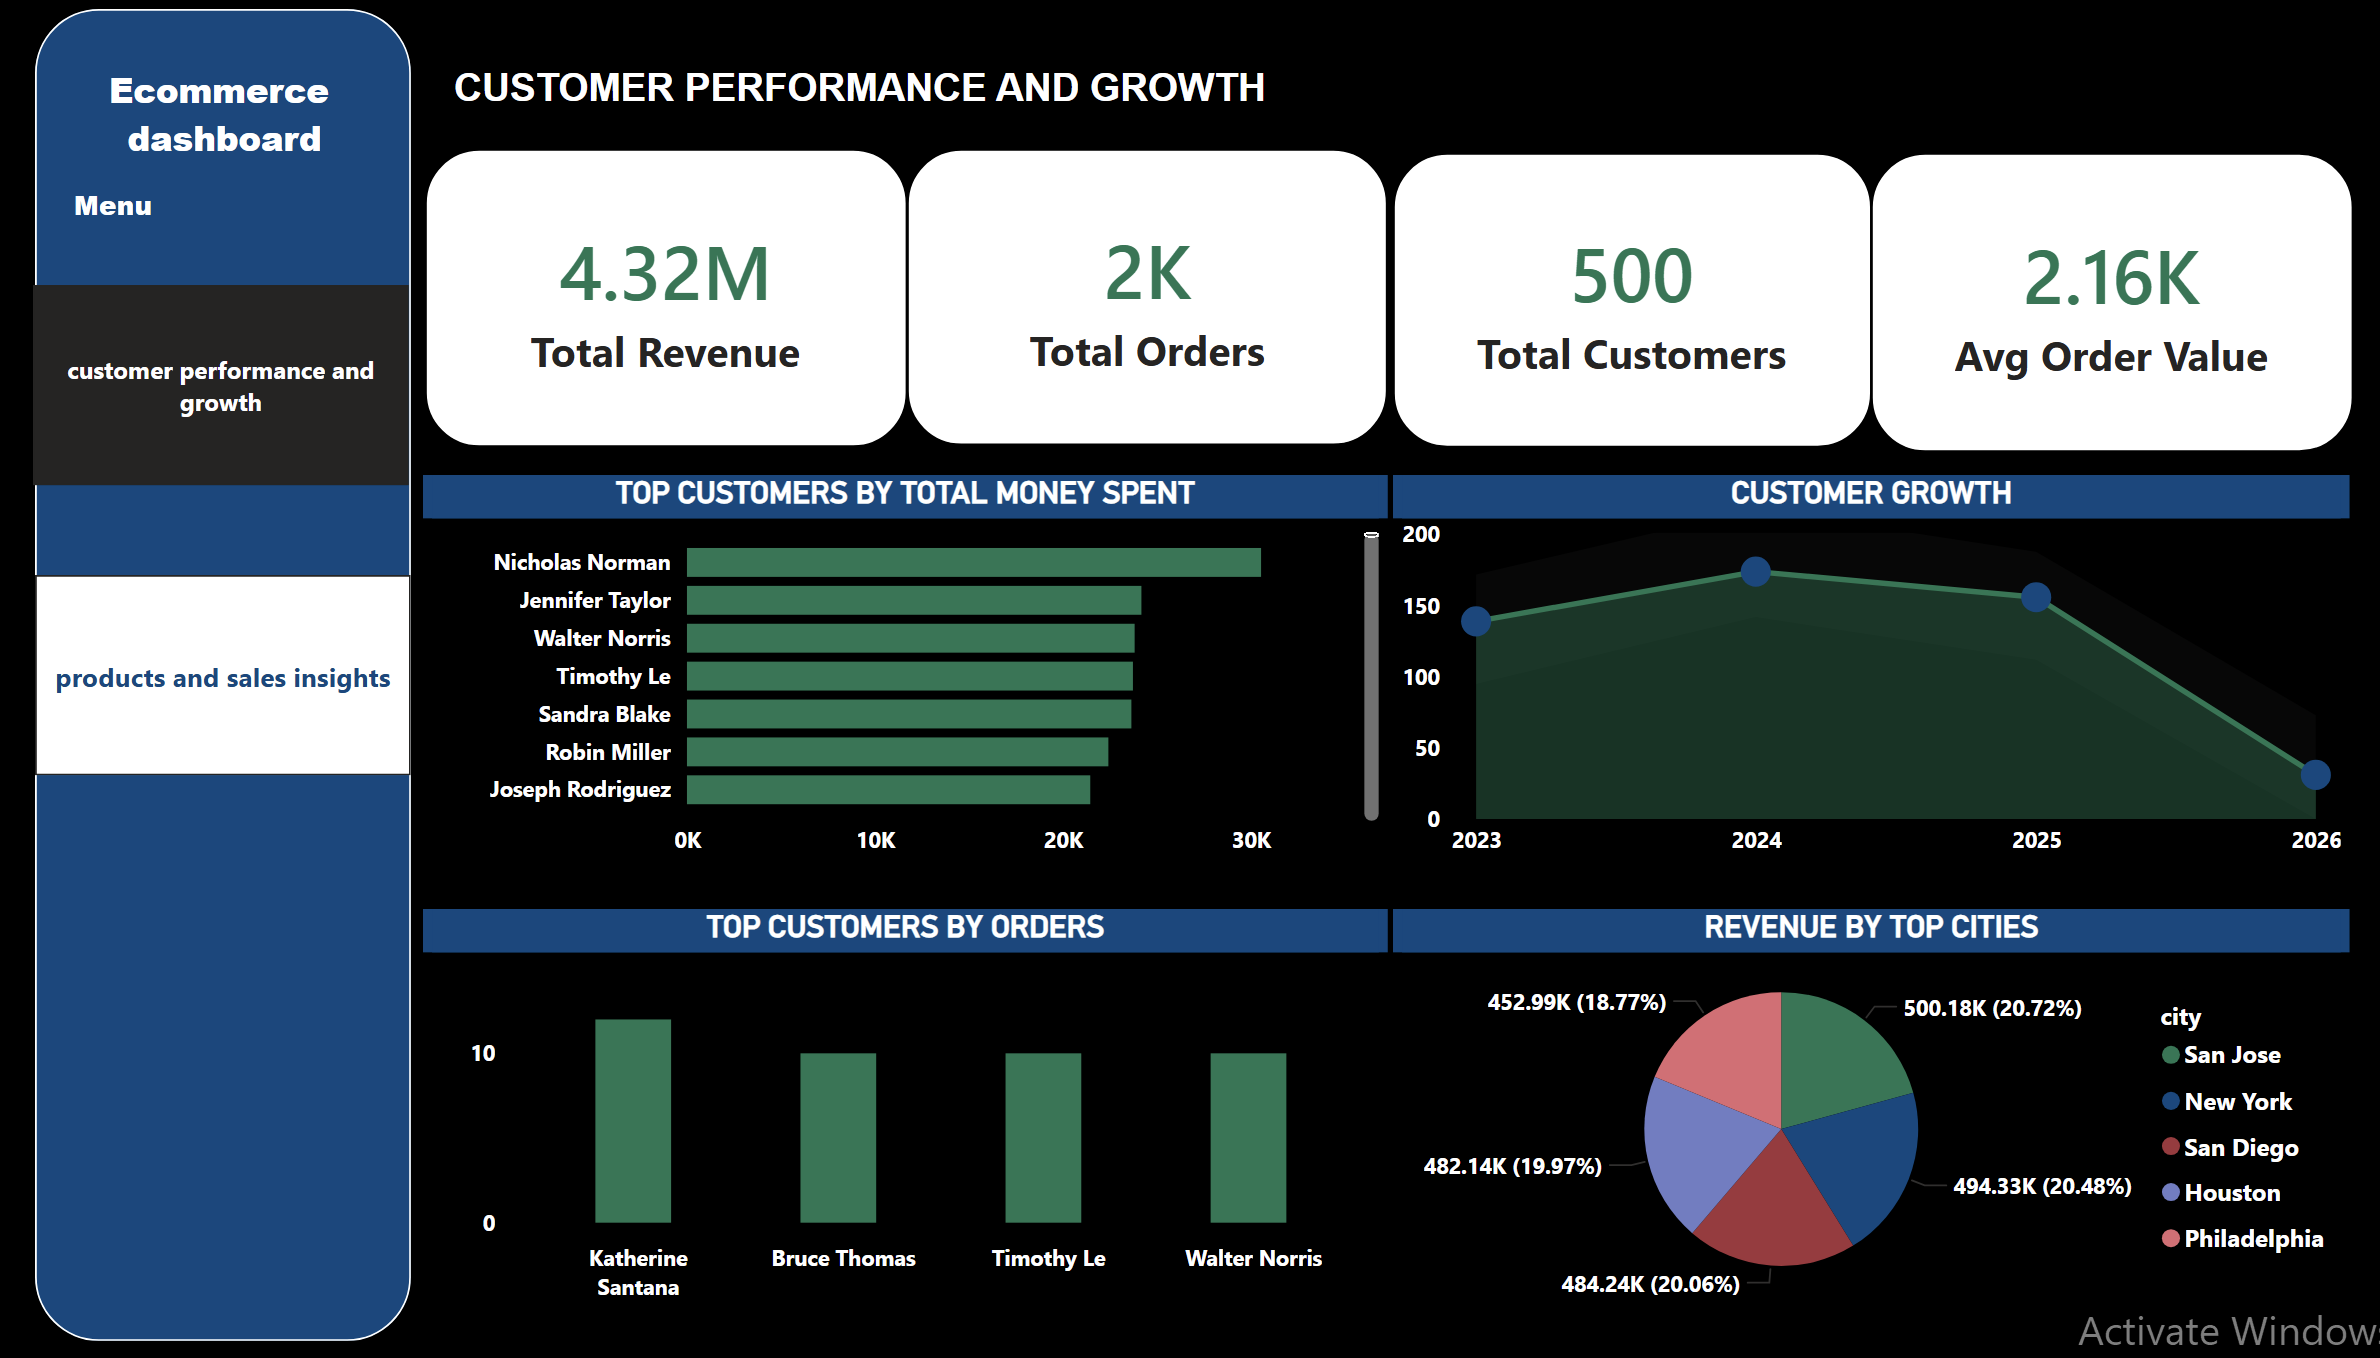

What the dashboard file says about the page in this screenshot:
{"tool":"powerbi","page":{"name":"customer performance and growth","canvas":[1318,756],"ordinal":0},"visuals":[{"type":"group","id":"g1","title":"Group 1","box":[2.8,8.5,243,737.2],"z":0},{"type":"cardVisual","fields":{"Data":["Sum(orders.order_value)"]},"box":[235.2,86.8,266.9,165.2],"z":1000},{"type":"cardVisual","fields":{"Data":["my_measures.Total Orders"]},"box":[502.2,86.9,266,164.2],"z":2000},{"type":"cardVisual","fields":{"Data":["my_measures.Total Customers"]},"box":[771.3,89,264.9,163.2],"z":3000},{"type":"shape","box":[19.1,8.5,208.1,737.2],"z":4000,"group":"g1"},{"type":"cardVisual","fields":{"Data":["my_measures.Avg Order Value"]},"box":[1036.2,89,267,165.3],"z":4000},{"type":"textbox","box":[2.8,35,243,69.2],"z":5000,"group":"g1"},{"type":"barChart","title":"TOP CUSTOMERS BY TOTAL MONEY SPENT","fields":{"Category":["customers.customer_name"],"Y":["Sum(orders.order_value)"]},"box":[235.2,267,534,220.4],"z":5000},{"type":"columnChart","title":"TOP CUSTOMERS BY ORDERS","fields":{"Category":["customers.customer_name"],"Y":["my_measures.Total Orders"]},"box":[235.2,506.4,534,224.6],"z":6000},{"type":"textbox","box":[35.7,101.5,86.9,43.4],"z":7000,"group":"g1"},{"type":"pieChart","title":"REVENUE BY TOP CITIES","fields":{"Category":["customers.city"],"Y":["my_measures.Total Revenue"]},"box":[771.3,506.4,529.7,224.6],"z":7000},{"type":"lineChart","title":"CUSTOMER GROWTH","fields":{"Category":["customers.signup_date.Variation.Date Hierarchy.Year"],"Y":["my_measures.Total Customers"]},"box":[771.3,267,529.7,220.4],"z":8000},{"type":"textbox","box":[246.9,35,520.5,367],"z":8001},{"type":"pageNavigator","box":[18.4,161.8,208.5,111.8],"z":8002},{"type":"pageNavigator","box":[20,322,208.5,111.8],"z":8003}]}

Visuals, with their boxes on the page's 1318x756 design canvas (x1, y1, x2, y2). These are canvas units, not pixel positions in the 2380x1358 screenshot, which may show the page scaled, cropped or inside an application window:
"Group 1" group: (3, 8, 246, 746)
cardVisual - Sum(orders.order_value): (235, 87, 502, 252)
cardVisual - my_measures.Total Orders: (502, 87, 768, 251)
cardVisual - my_measures.Total Customers: (771, 89, 1036, 252)
shape: (19, 8, 227, 746)
cardVisual - my_measures.Avg Order Value: (1036, 89, 1303, 254)
textbox: (3, 35, 246, 104)
"TOP CUSTOMERS BY TOTAL MONEY SPENT" barChart: (235, 267, 769, 487)
"TOP CUSTOMERS BY ORDERS" columnChart: (235, 506, 769, 731)
textbox: (36, 102, 123, 145)
"REVENUE BY TOP CITIES" pieChart: (771, 506, 1301, 731)
"CUSTOMER GROWTH" lineChart: (771, 267, 1301, 487)
textbox: (247, 35, 767, 402)
pageNavigator: (18, 162, 227, 274)
pageNavigator: (20, 322, 228, 434)
